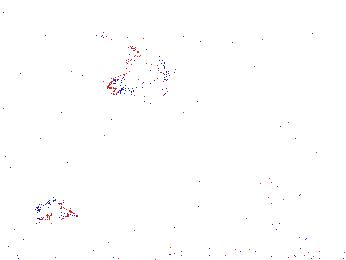flame jellyfish: (1, 169, 79, 223), (106, 52, 176, 106), (249, 161, 303, 215)
